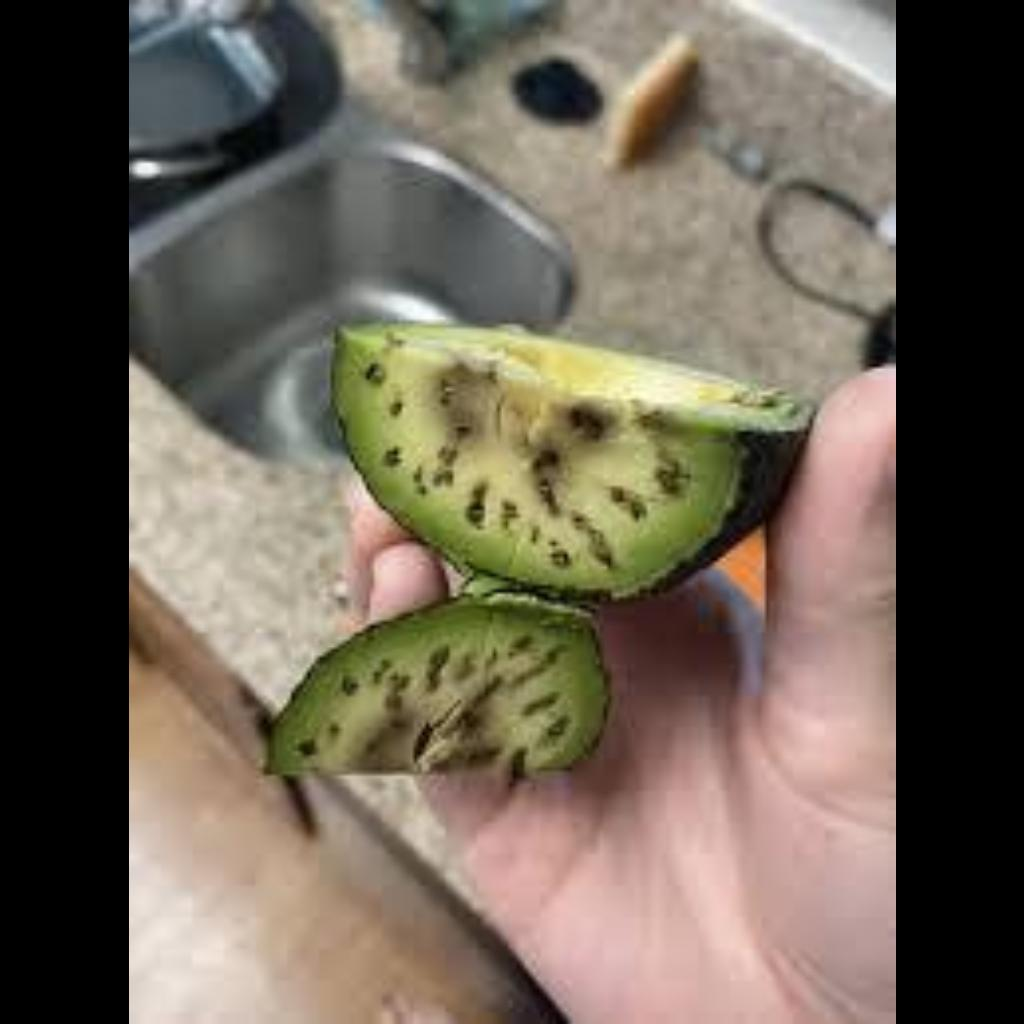antracnosis_fruto: (304, 297, 810, 803)
